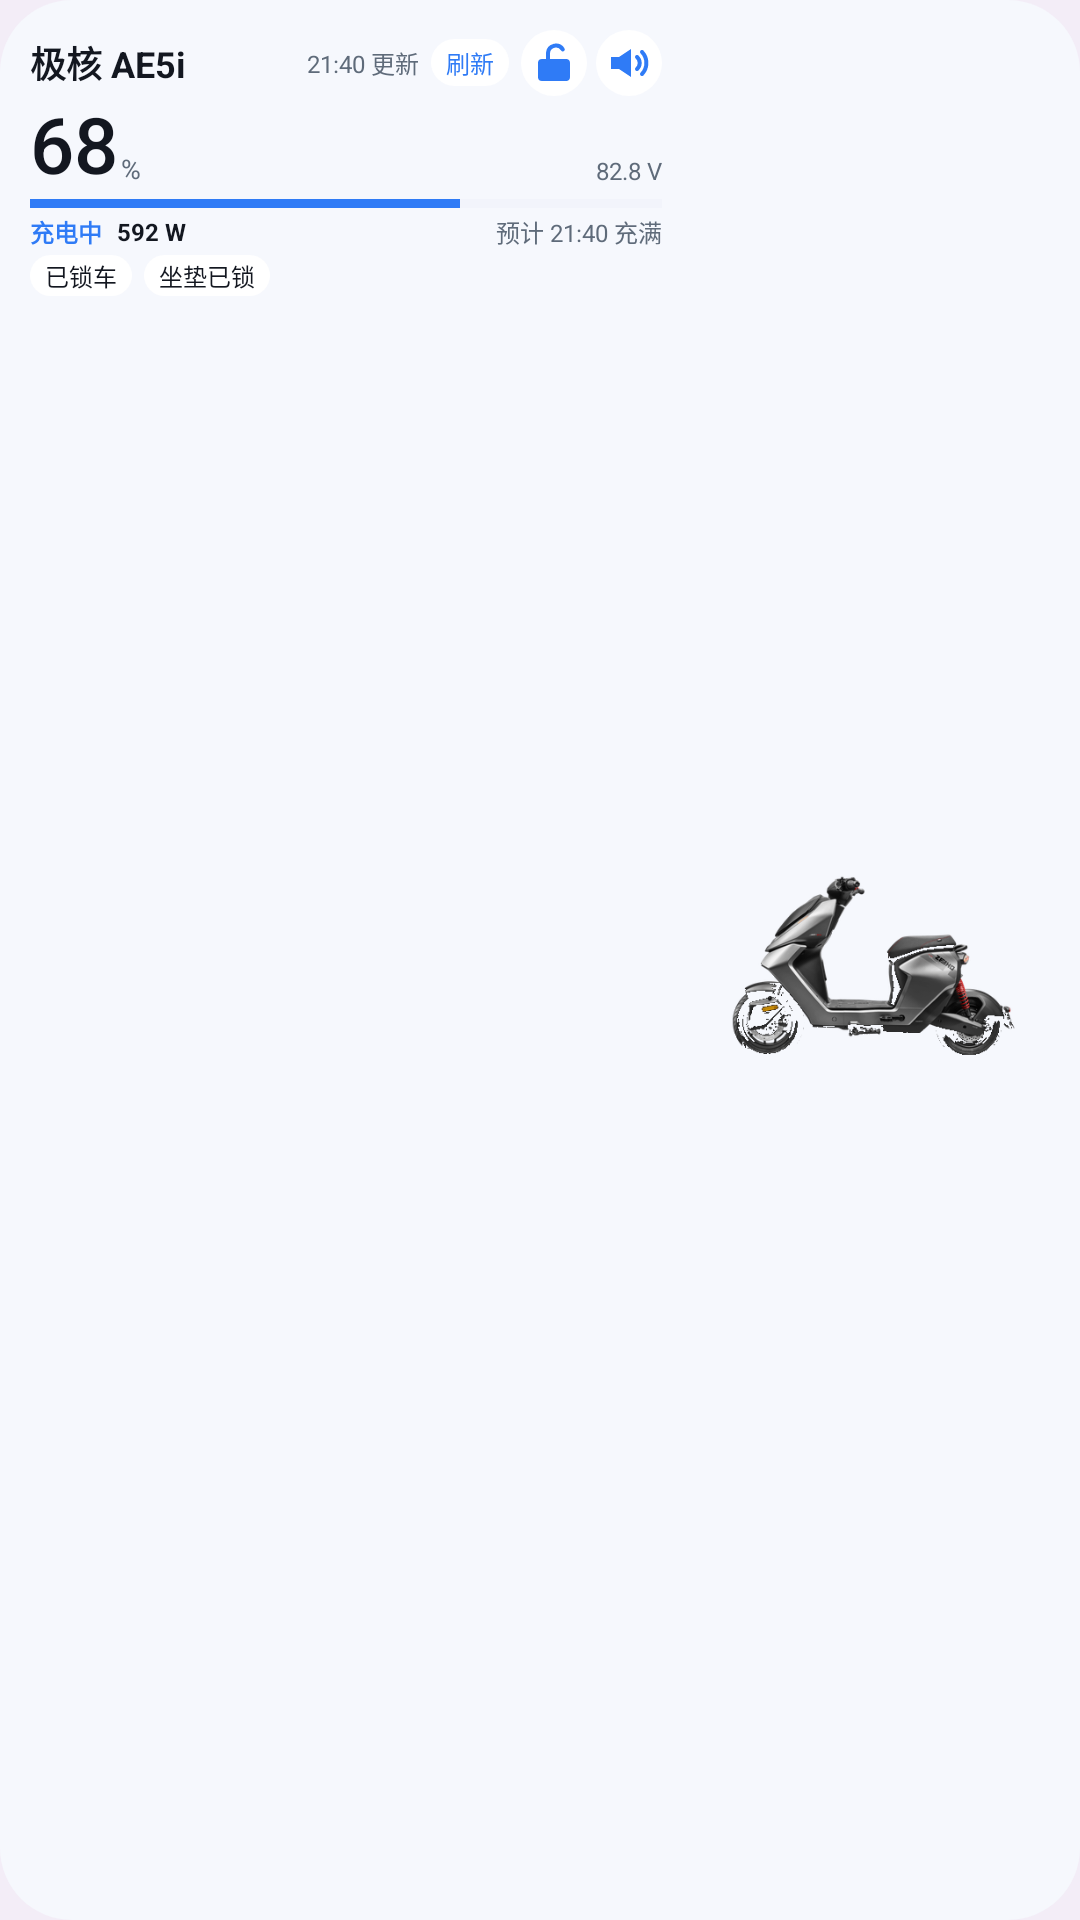

Icons on this 1080 × 1920 Android screen, each with its box as (x1, y1, x2, y2):
解锁: (538, 43, 570, 81)
鸣笛: (611, 49, 649, 77)
